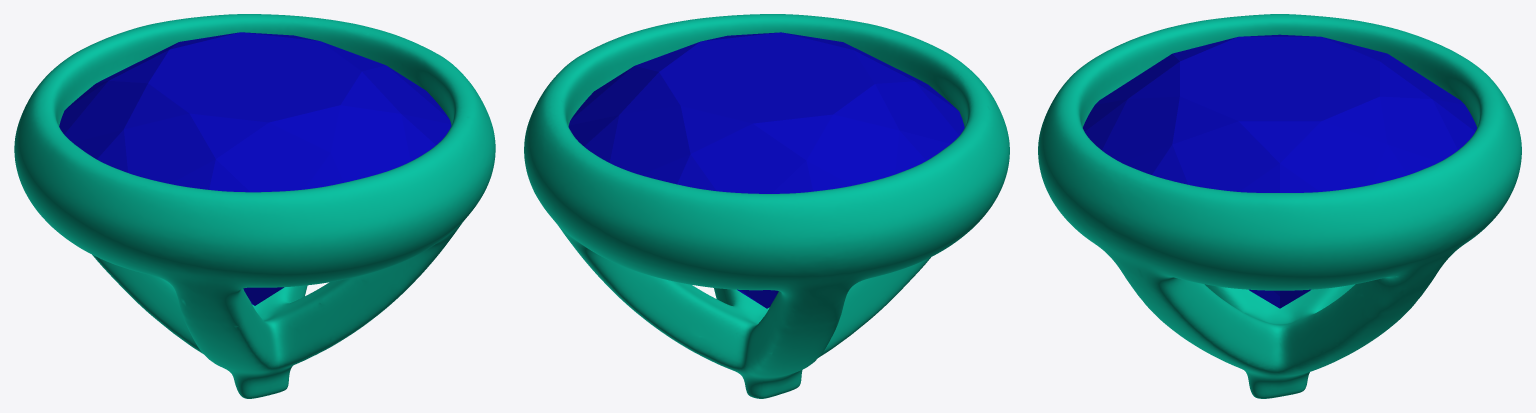
File: Round.glb
The picture shows the model from 3 angles, left to right: view 1: azimuth 30°, elevation 25°; view 2: azimuth 150°, elevation 25°; view 3: azimuth 270°, elevation 25°; orthographic projection.
Visible parts, largest first — view 1: /GSMOD388300- BEZEL_Round_IJ.3dm, Diamond_Round; view 2: /GSMOD388300- BEZEL_Round_IJ.3dm, Diamond_Round; view 3: /GSMOD388300- BEZEL_Round_IJ.3dm, Diamond_Round.
Part boxes in pixels (x1,y1,x2,y2): /GSMOD388300- BEZEL_Round_IJ.3dm: (14,14,495,398); Diamond_Round: (59,32,451,305); /GSMOD388300- BEZEL_Round_IJ.3dm: (524,14,1009,398); Diamond_Round: (568,32,964,308); /GSMOD388300- BEZEL_Round_IJ.3dm: (1038,14,1521,398); Diamond_Round: (1083,34,1476,308).
Bounding box in the file's own units: 8.48 × 6.04 × 8.49.
